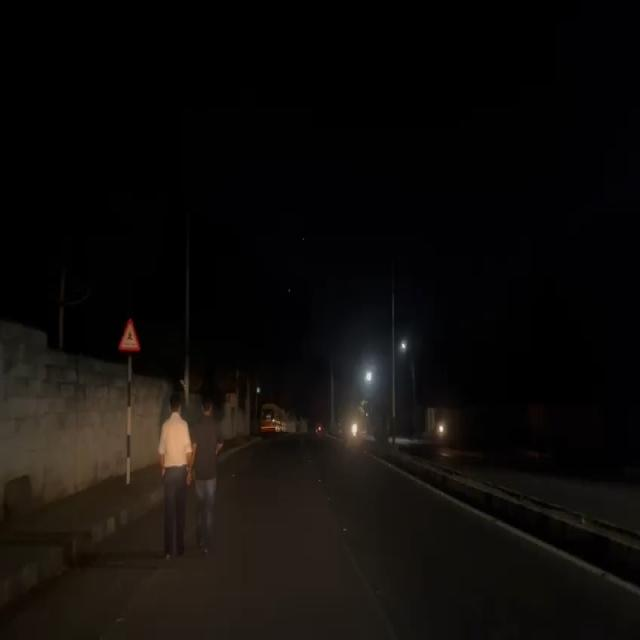bien_cam: (117, 313, 141, 353)
